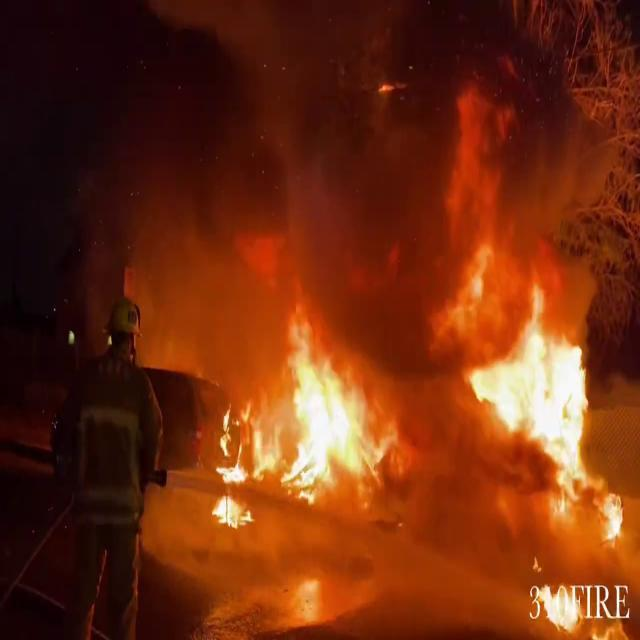Fire: (453, 268, 637, 624), (203, 313, 399, 517)
Smoke: (114, 1, 614, 331)
